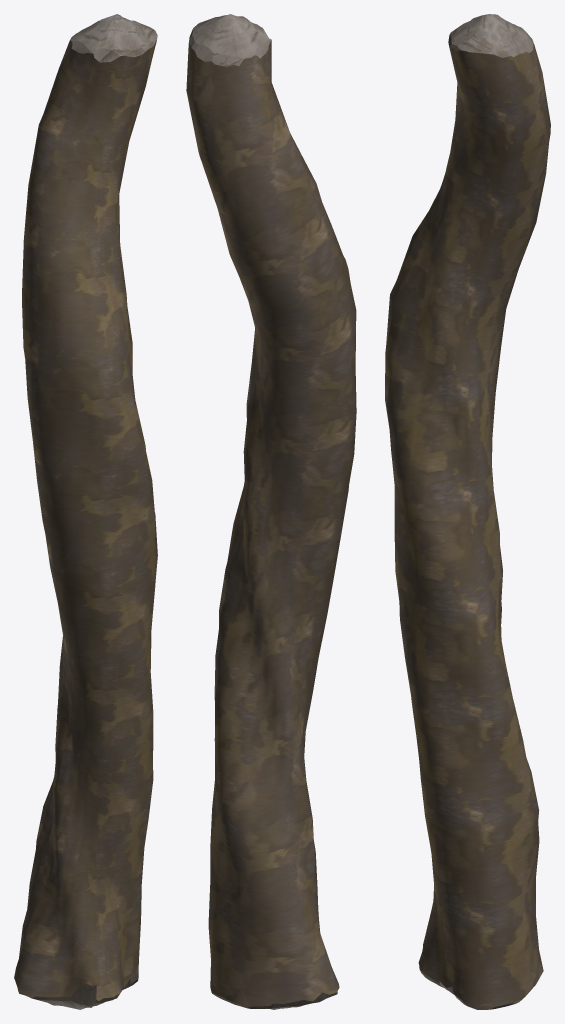
3 renders of one model, left to right at view 1: azimuth 30°, elevation 25°; view 2: azimuth 150°, elevation 25°; view 3: azimuth 270°, elevation 25°, orthographic. The views are drawn at different scales.
Visible parts, largest first — view 1: SM_Yew_03_full_LOD0; view 2: SM_Yew_03_full_LOD0; view 3: SM_Yew_03_full_LOD0.
Part boxes in pixels (left/top/right/bottom): SM_Yew_03_full_LOD0: left=14, top=14, right=157, bottom=1009; SM_Yew_03_full_LOD0: left=186, top=14, right=356, bottom=1009; SM_Yew_03_full_LOD0: left=385, top=14, right=550, bottom=1009.
Bounding box in the file's own units: 1.03 × 7.02 × 1.05.
Materials: 1 (1 with a texture image).
